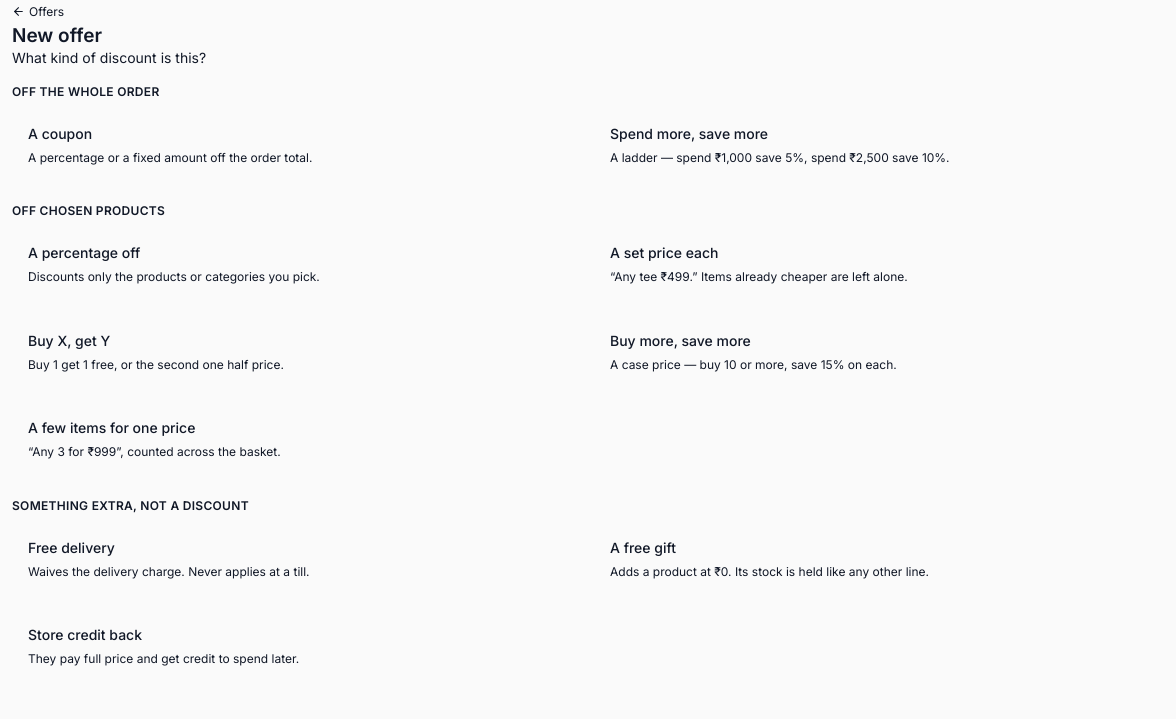
Test: OfferForm — the card layout › shows every question at once, named, without a click
This screenshot has width=1176, height=719.
Click the button "A coupon A percentage or a fixed amount off the order total.": {"x": 60, "y": 133} [12,108,582,183]
(page scrolled)
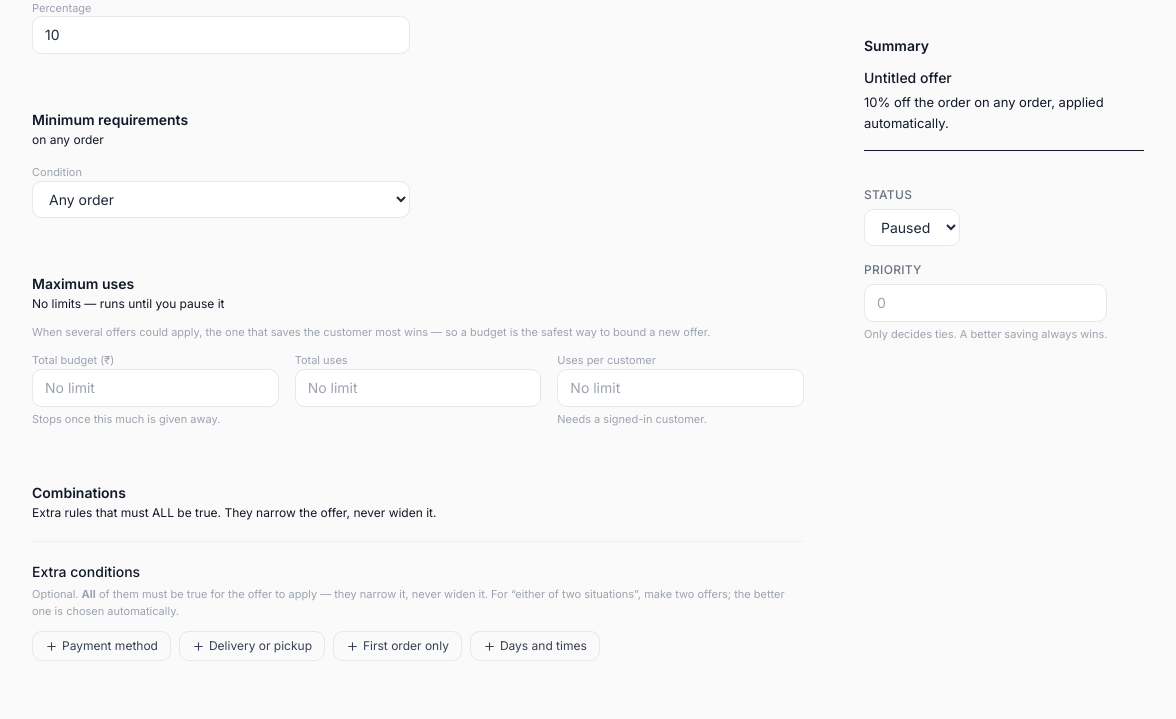
Expected: the heading "Minimum requirements" is shown, [32,111,188,128]
Expected: the heading "Maximum uses" is shown, [32,275,134,292]
Expected: the heading "Combinations" is shown, [32,484,126,501]
